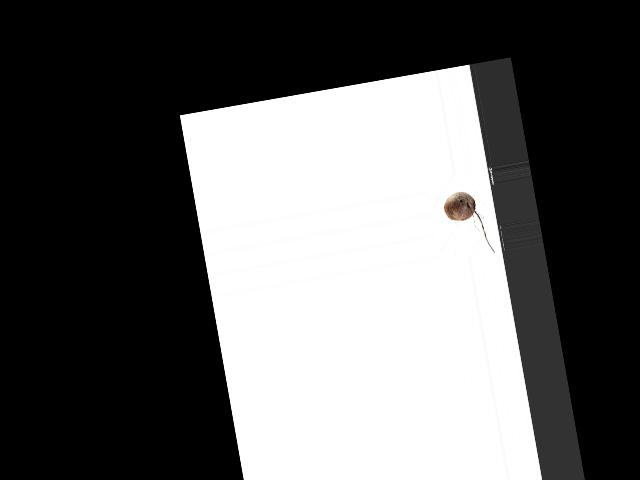beet: (442, 188, 495, 260)
